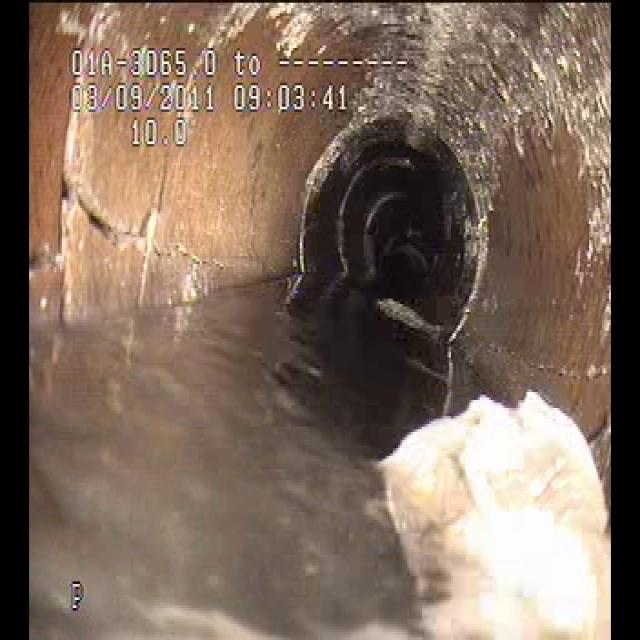Fracture: (64, 181, 235, 287)
